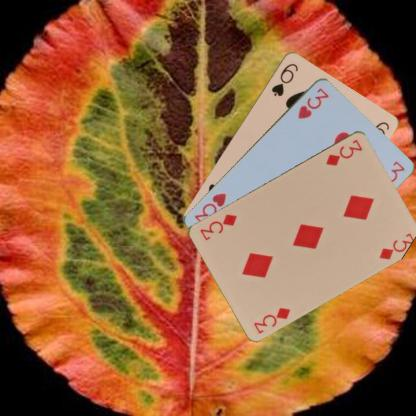3d: (323, 136, 364, 167), (251, 304, 292, 334)
3h: (295, 85, 330, 120)
6s: (269, 60, 299, 98)
